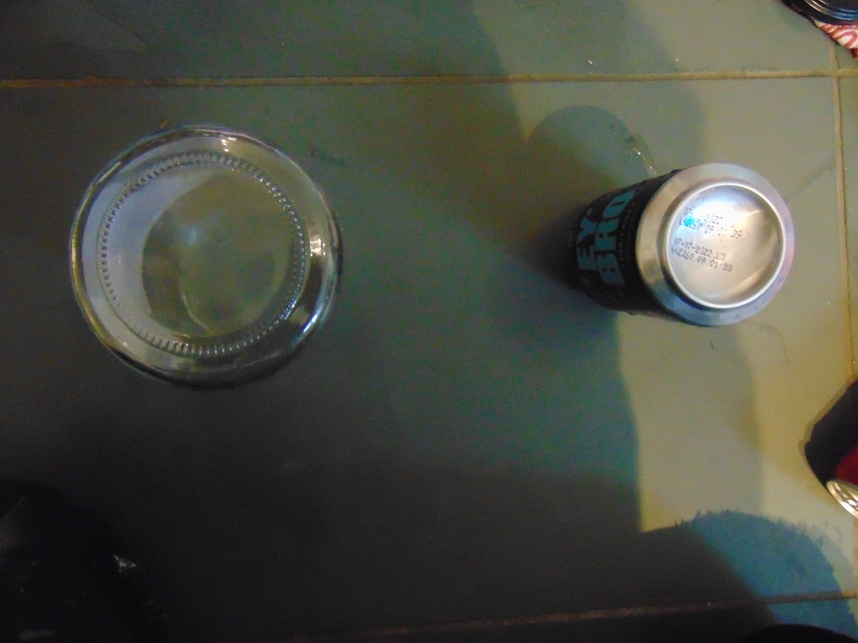glass_bottle: (68, 124, 343, 393)
metal_can: (566, 162, 795, 330), (828, 440, 858, 518)
